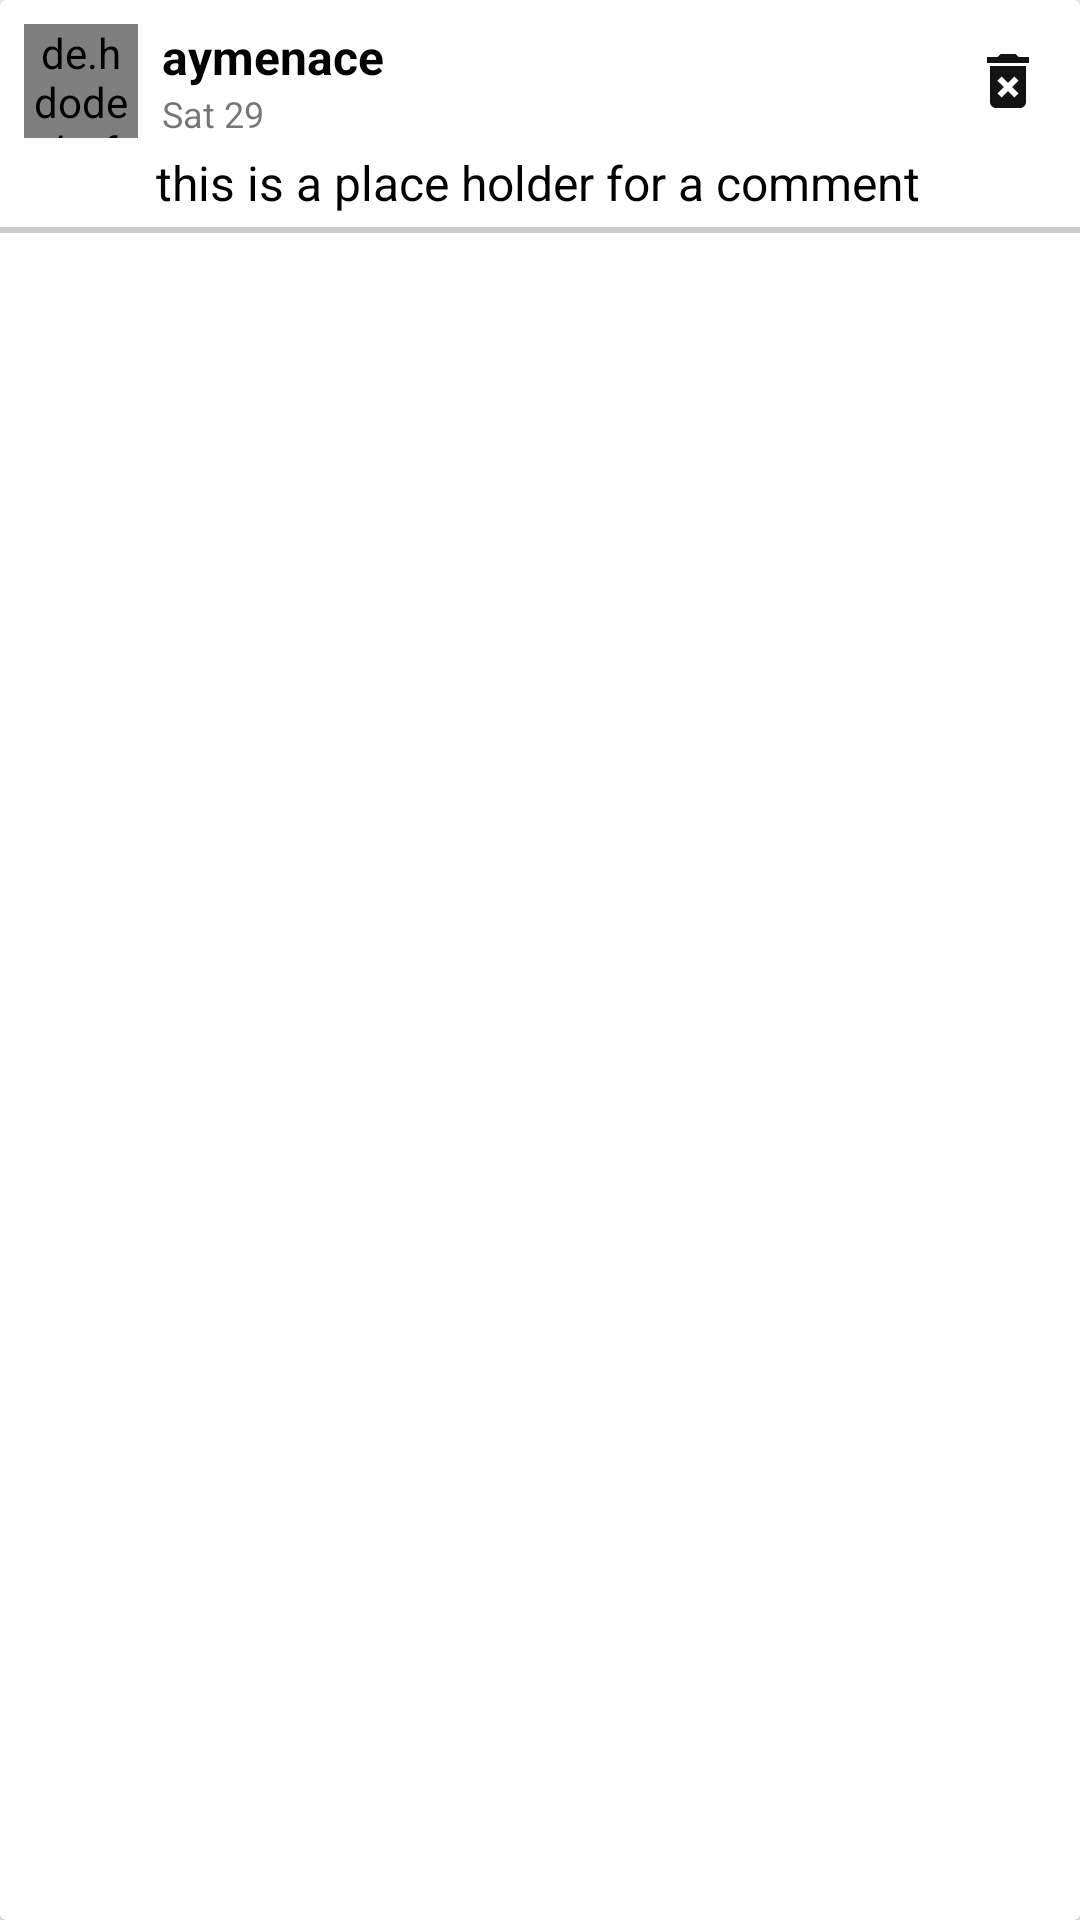

Icon bounding boxes for this 1080*1920 phone screenshot, format bbox(x1, y1, x2, y2):
delete forever: bbox(987, 54, 1029, 108)
